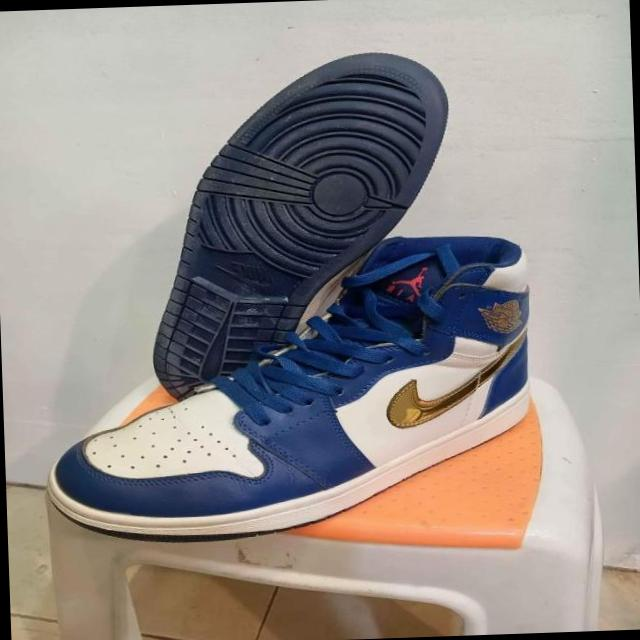nike_fake_jordan: (39, 226, 544, 552)
